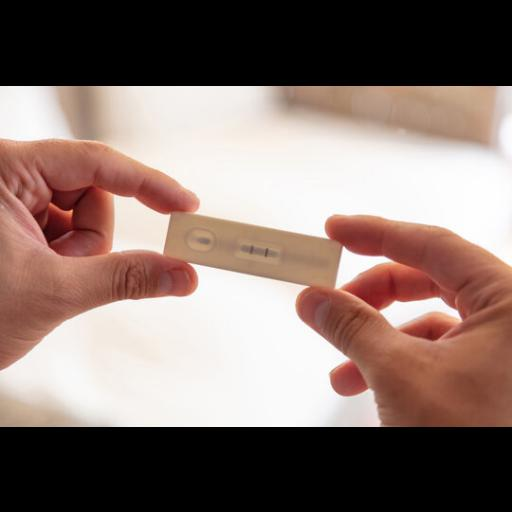Pos: (162, 208, 343, 290)
